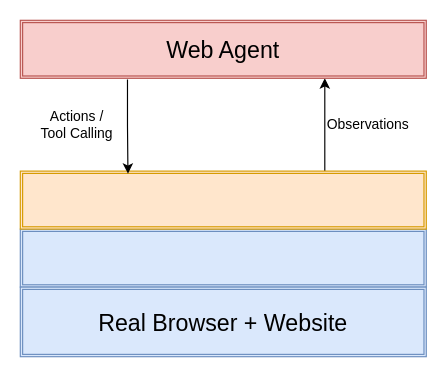
Image size: 447x377. Some labels were removed from this diagram. The shapes that lost their labels are listed below. From the top down, each one's centre as x and y in pixels, then its label:
At (x=222, y=199): "BrowserGym".
At (x=222, y=257): "Playwright".
